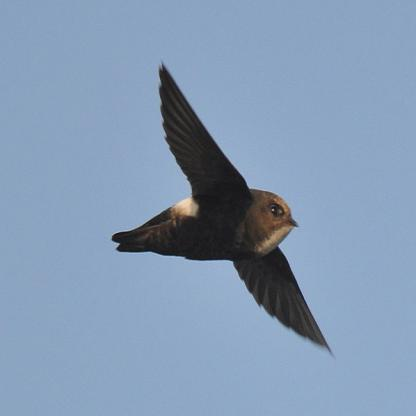Burung: (111, 59, 335, 357)
